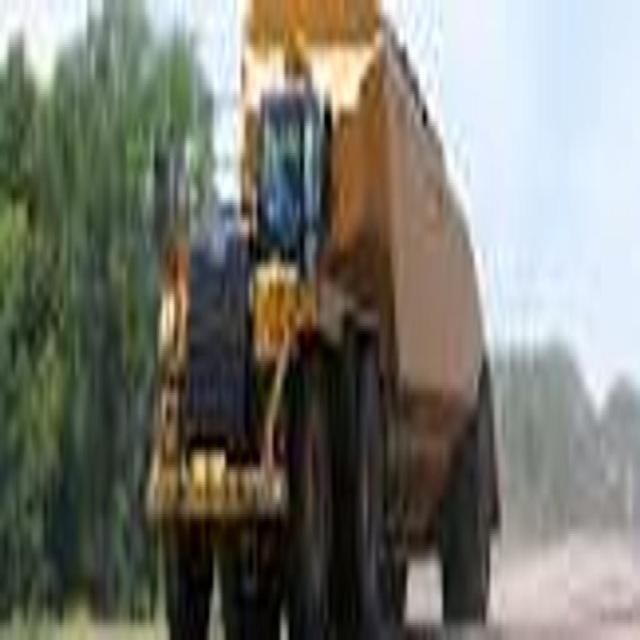dump_truck: (151, 0, 501, 640)
